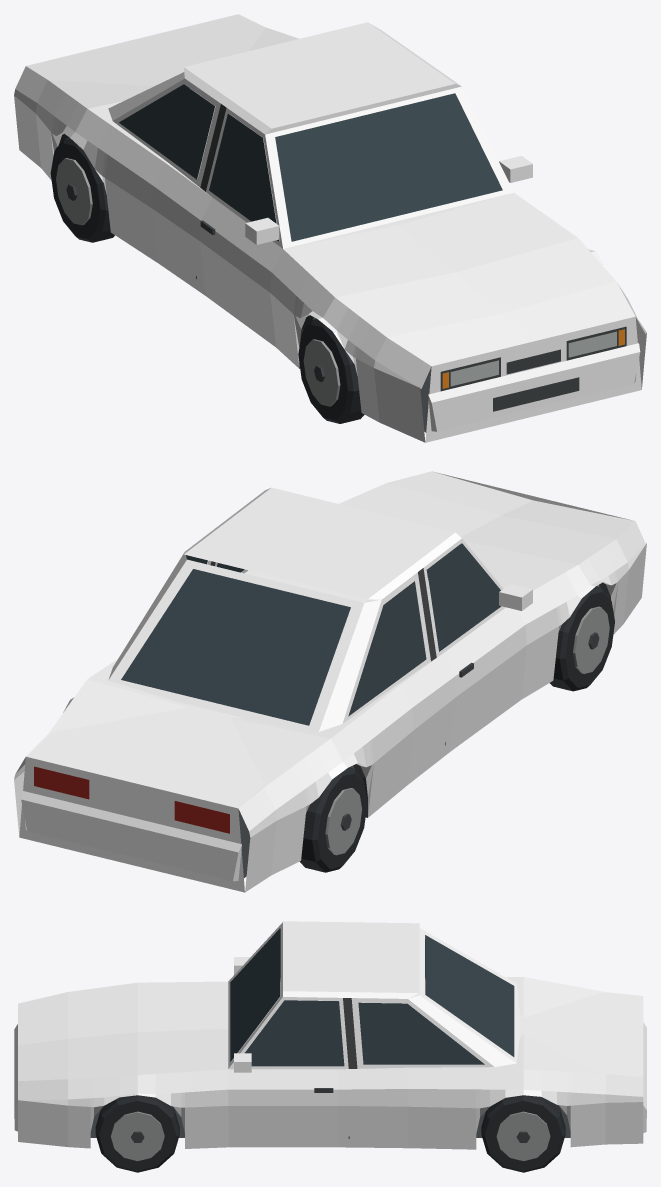
The model's file is hozuki_rindo_95.glb.
3 views of the same model, one above another, from view 1: azimuth 30°, elevation 25°; view 2: azimuth 150°, elevation 25°; view 3: azimuth 270°, elevation 25° (orthographic). The views are drawn at different scales.
Visible parts, largest first — view 1: hozuki_rindo_95; view 2: hozuki_rindo_95; view 3: hozuki_rindo_95.
Boxes of the visible parts, left/top/right/bottom form: hozuki_rindo_95: left=14, top=14, right=646, bottom=442; hozuki_rindo_95: left=14, top=471, right=646, bottom=892; hozuki_rindo_95: left=14, top=921, right=646, bottom=1172.
Bounding box in the file's own units: 1.71 × 1.26 × 4.33.
Materials: 8 (1 with a texture image).
